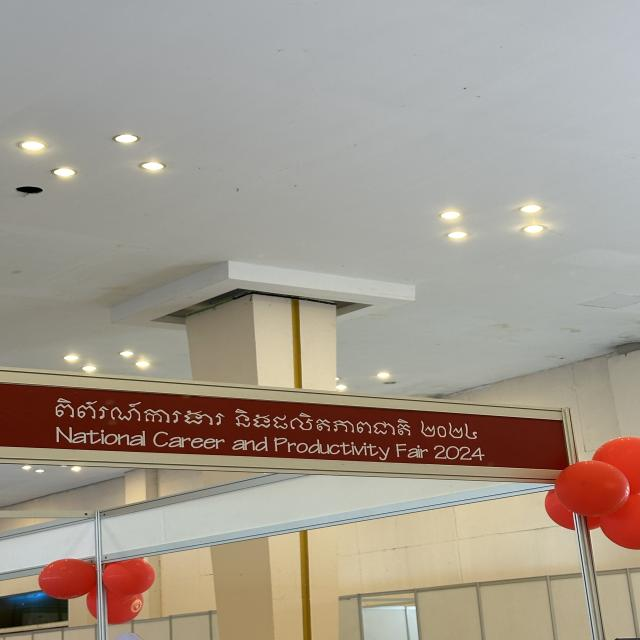Yolov11kh: (43, 393, 484, 443)
